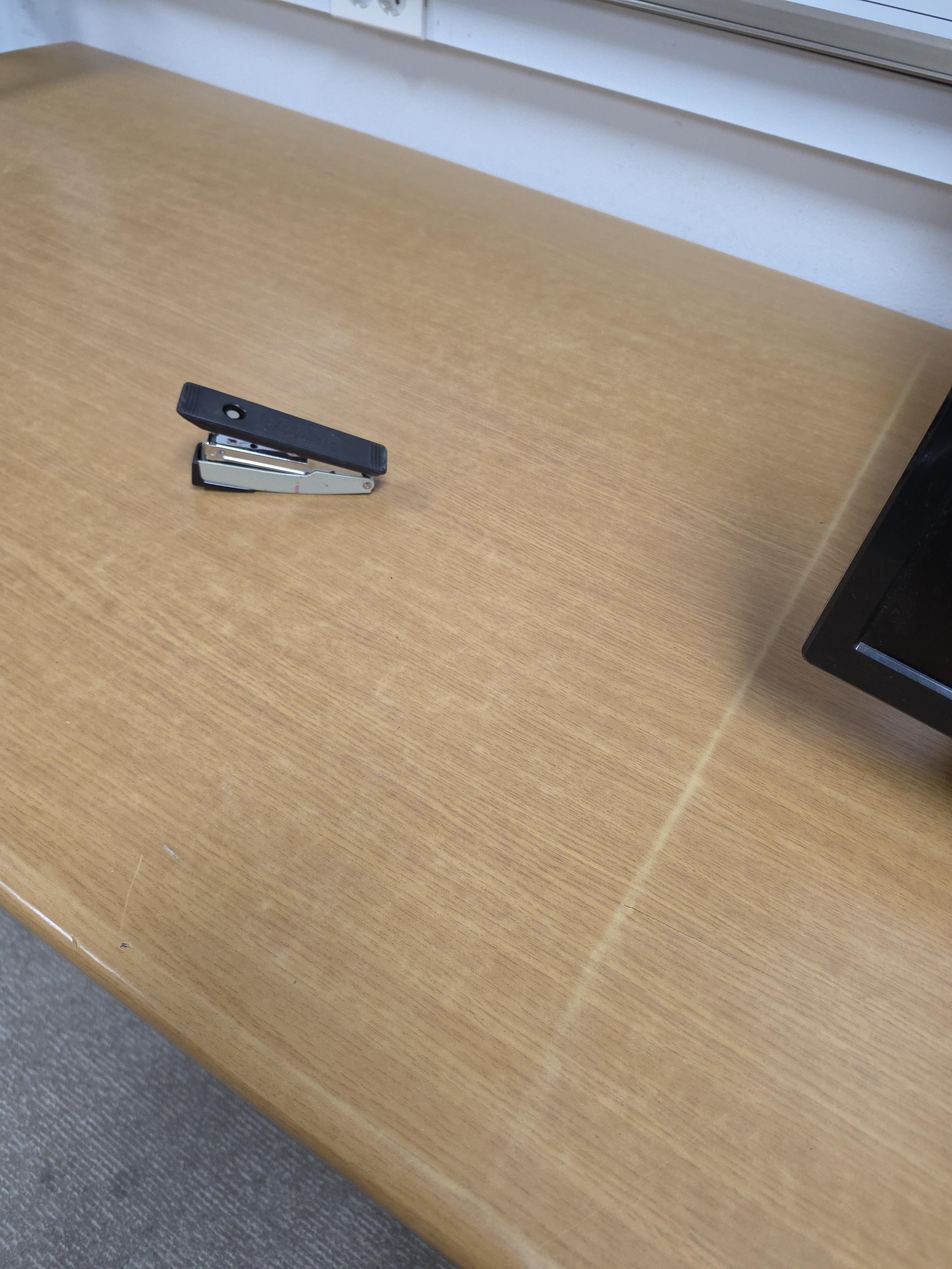stapler: (175, 381, 389, 497)
